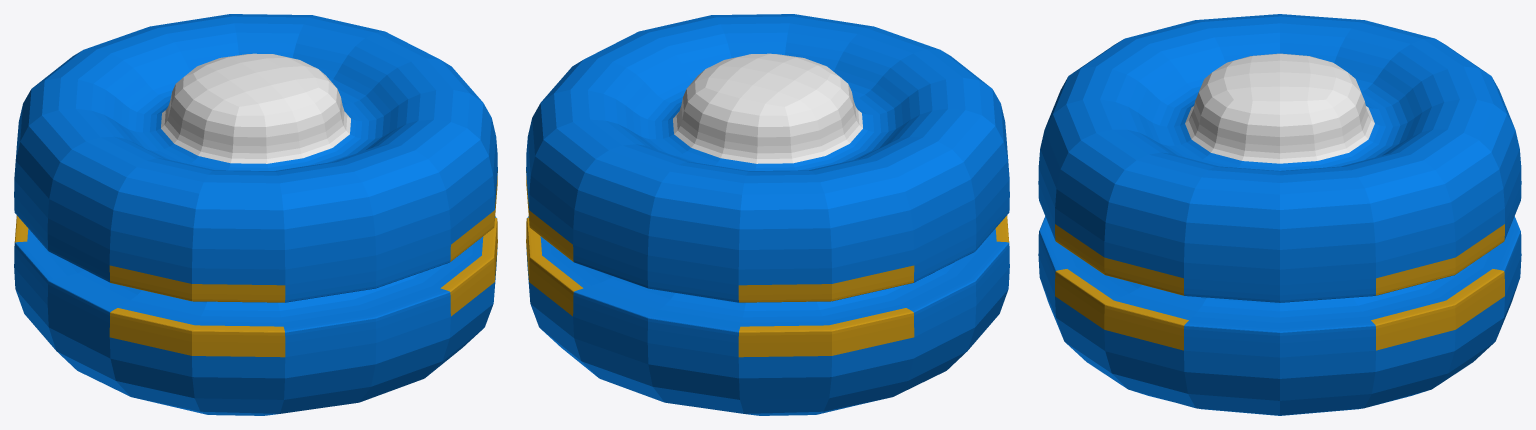
The model's file is ray_caster.fbx.
The picture shows the model from 3 angles, left to right: view 1: azimuth 30°, elevation 25°; view 2: azimuth 150°, elevation 25°; view 3: azimuth 270°, elevation 25°; orthographic projection.
Parts seen in each view (by area): view 1: enemy_ray_caster; view 2: enemy_ray_caster; view 3: enemy_ray_caster.
Part boxes in pixels (bbox=[...]): enemy_ray_caster: bbox=[14, 14, 497, 415]; enemy_ray_caster: bbox=[526, 14, 1009, 415]; enemy_ray_caster: bbox=[1038, 14, 1521, 415].
Bounding box in the file's own units: 538 × 359 × 538.
